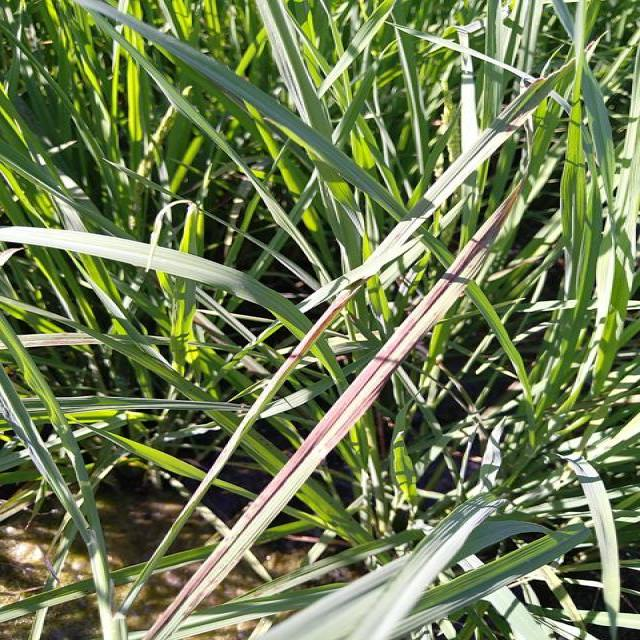Leaf Streak: (141, 176, 524, 639), (273, 284, 359, 382)
